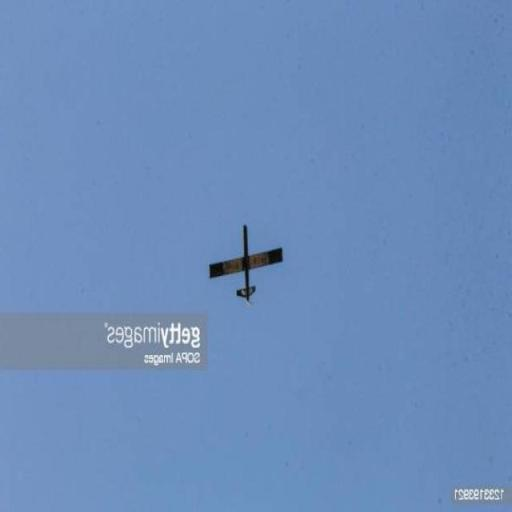uav: (204, 217, 286, 309)
